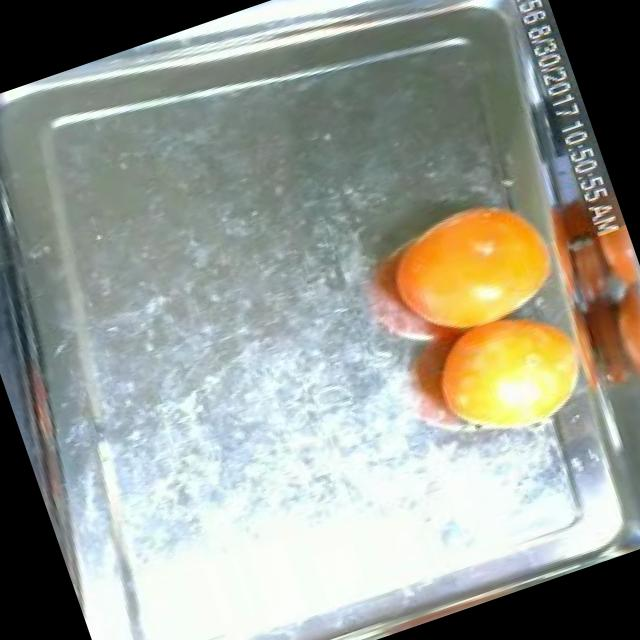Fruit: (352, 165, 584, 367), (400, 279, 614, 469)
